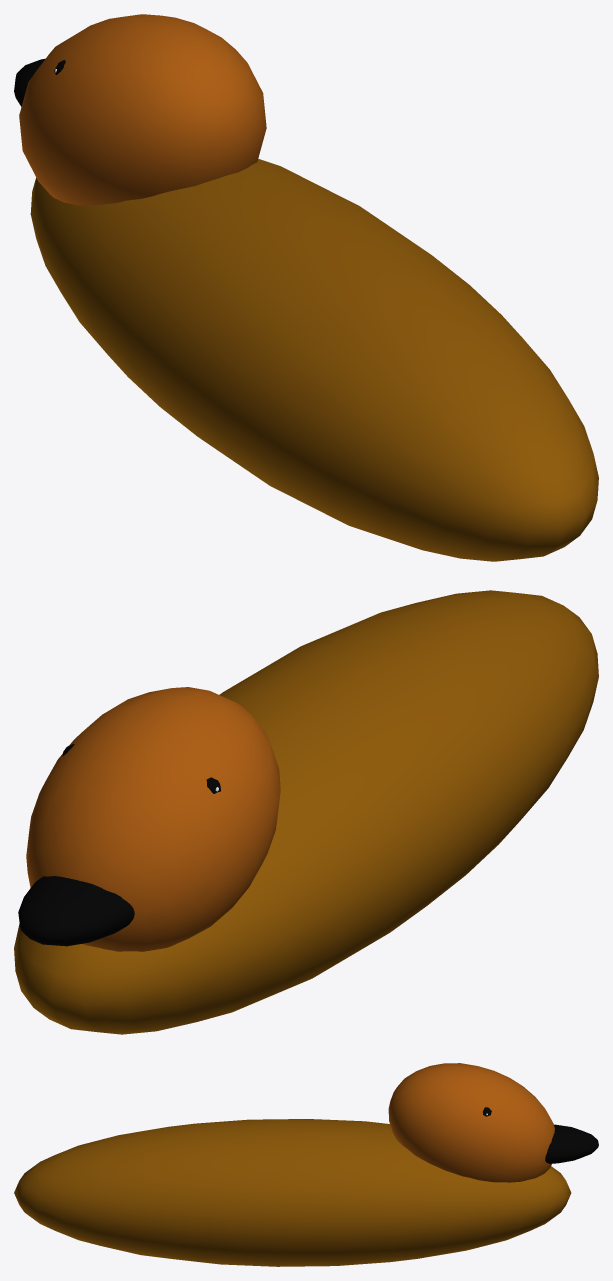
File: low_poly_duck.glb
The picture shows the model from 3 angles, top to bottom: view 1: azimuth 30°, elevation 25°; view 2: azimuth 150°, elevation 25°; view 3: azimuth 270°, elevation 25°; orthographic projection. The views are drawn at different scales.
Parts seen in each view (by area): view 1: Sphere_0; view 2: Sphere_0; view 3: Sphere_0.
Boxes of the visible parts, x1,y1,x2,y2 form: Sphere_0: (14, 14, 598, 561); Sphere_0: (14, 590, 598, 1034); Sphere_0: (14, 1063, 598, 1266).
Size of the model in its own units: 2.16 by 2.39 by 6.91.
